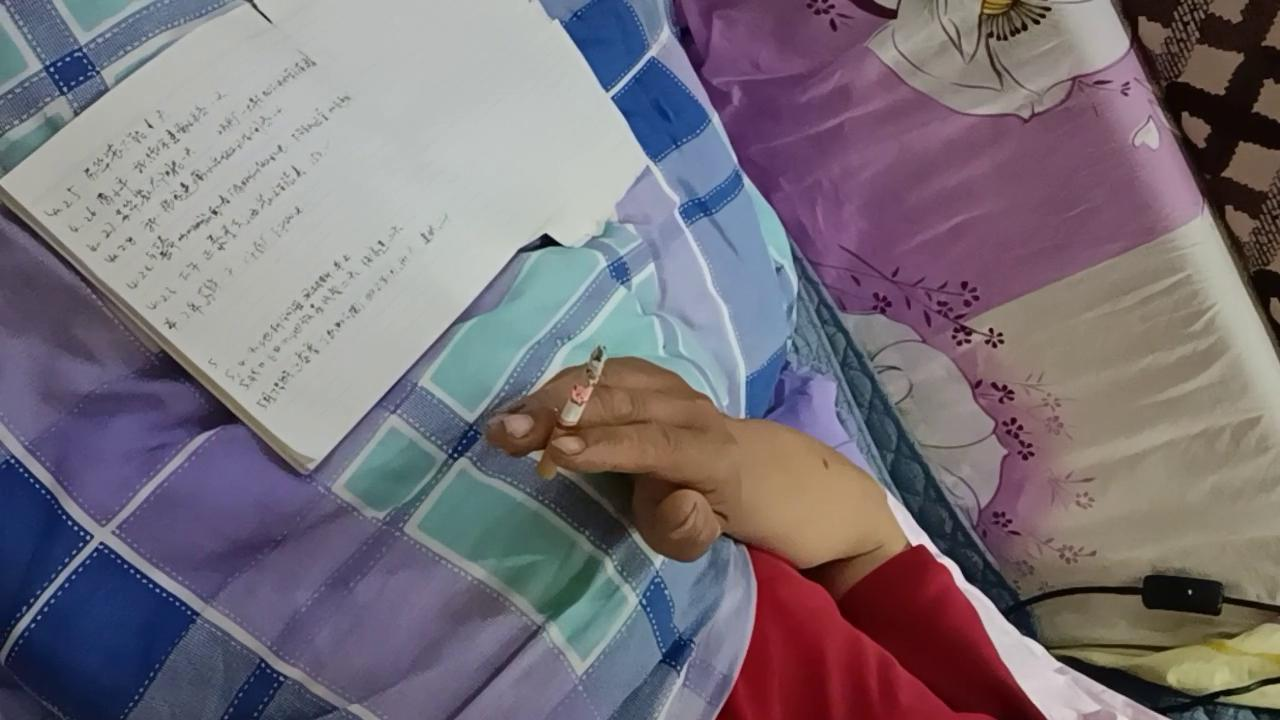smoke: (538, 345, 609, 480)
